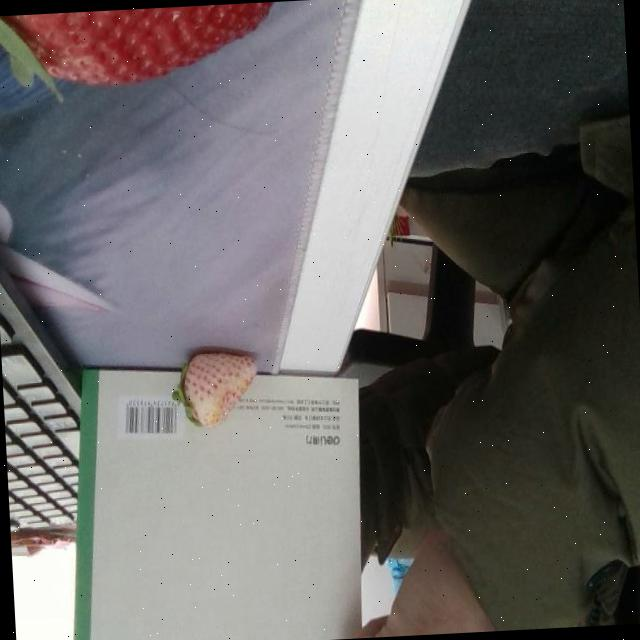strawberry: (0, 3, 283, 94), (180, 349, 261, 428)
